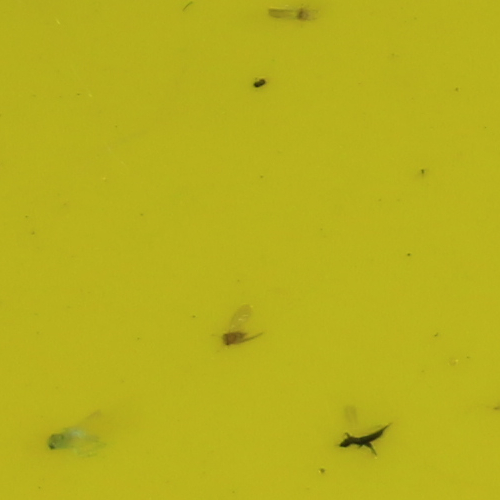psylla: (44, 431, 83, 450), (220, 329, 249, 344)
